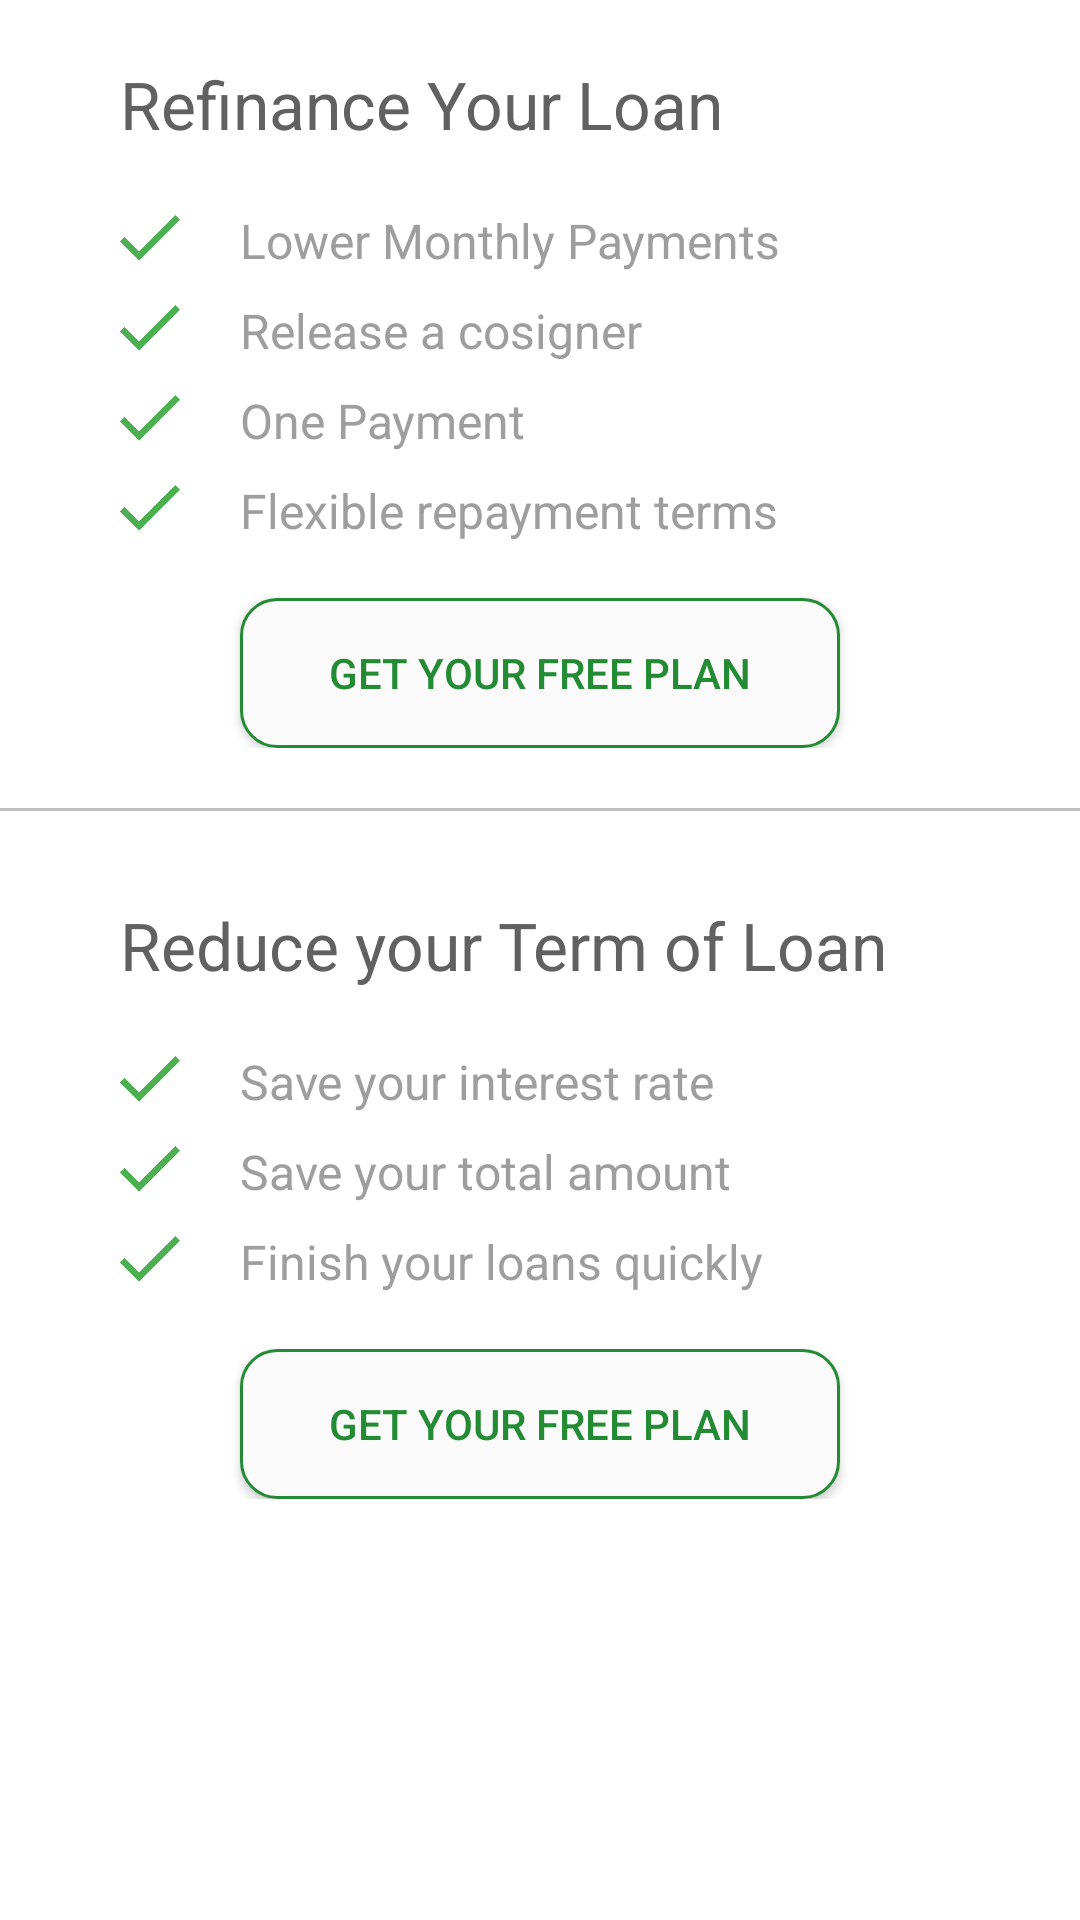

Screen size 1080px×1920px. Icon name, then its box in pixels as {"left": x1, "top": y1, "right": x2, "bottom": y2}:
tick: {"left": 120, "top": 215, "right": 180, "bottom": 261}, {"left": 120, "top": 305, "right": 180, "bottom": 351}, {"left": 120, "top": 395, "right": 180, "bottom": 441}, {"left": 120, "top": 485, "right": 180, "bottom": 531}, {"left": 120, "top": 1056, "right": 180, "bottom": 1102}, {"left": 120, "top": 1146, "right": 180, "bottom": 1192}, {"left": 120, "top": 1236, "right": 180, "bottom": 1282}
